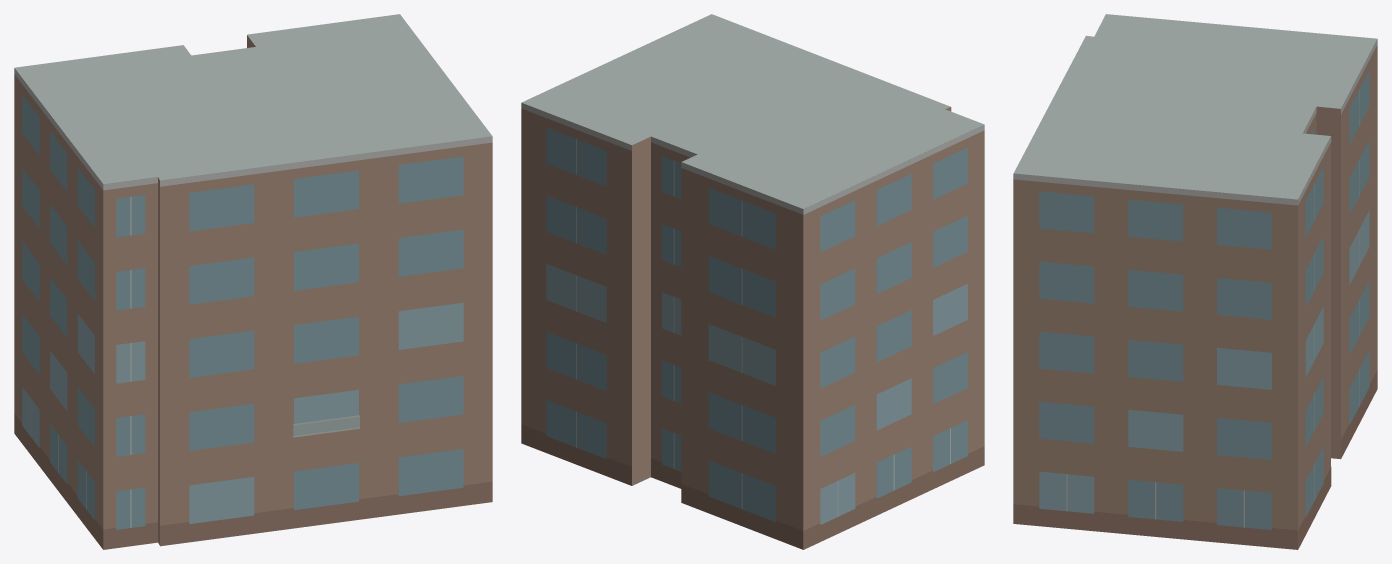
The model's file is survey-upis-32926700.glb.
3 renders of one model, left to right at view 1: azimuth 30°, elevation 25°; view 2: azimuth 150°, elevation 25°; view 3: azimuth 270°, elevation 25°, orthographic. The views are drawn at different scales.
Visible parts, largest first — view 1: survey-upis-32926700.tmp; view 2: survey-upis-32926700.tmp; view 3: survey-upis-32926700.tmp.
Boxes of the visible parts, x1,y1,x2,y2 form: survey-upis-32926700.tmp: [14, 14, 492, 549]; survey-upis-32926700.tmp: [521, 14, 984, 549]; survey-upis-32926700.tmp: [1013, 14, 1377, 549].
Size of the model in its own units: 16.37 by 14.4 by 13.57.
